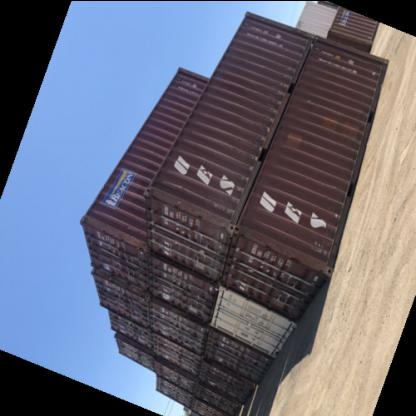Damage: (252, 245, 316, 267)
